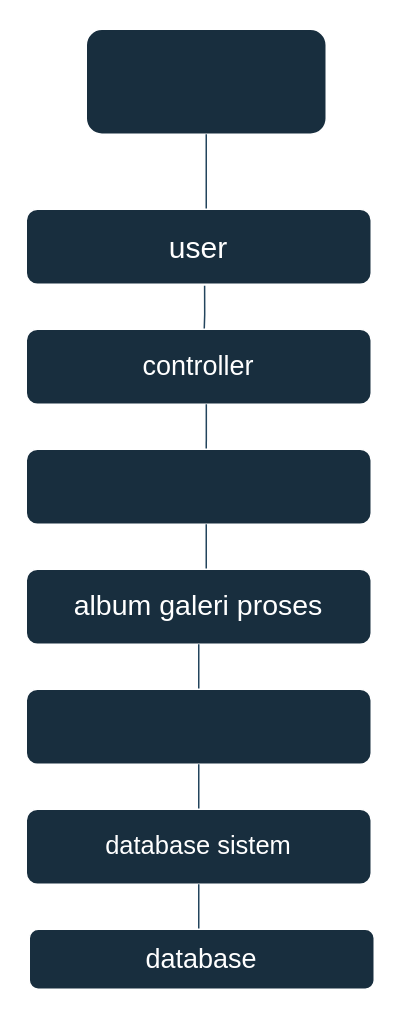
The diagram is 401 pixels wide and 1016 high, and some of its shapes have lost their labels. Here are the shapes that lost their labels. From the top down, the centre of each, then its label:
At [205,81]: "web galeri sistem".
At [198,486]: "user manajemen proses".
At [198,726]: "poto galeri proses".
